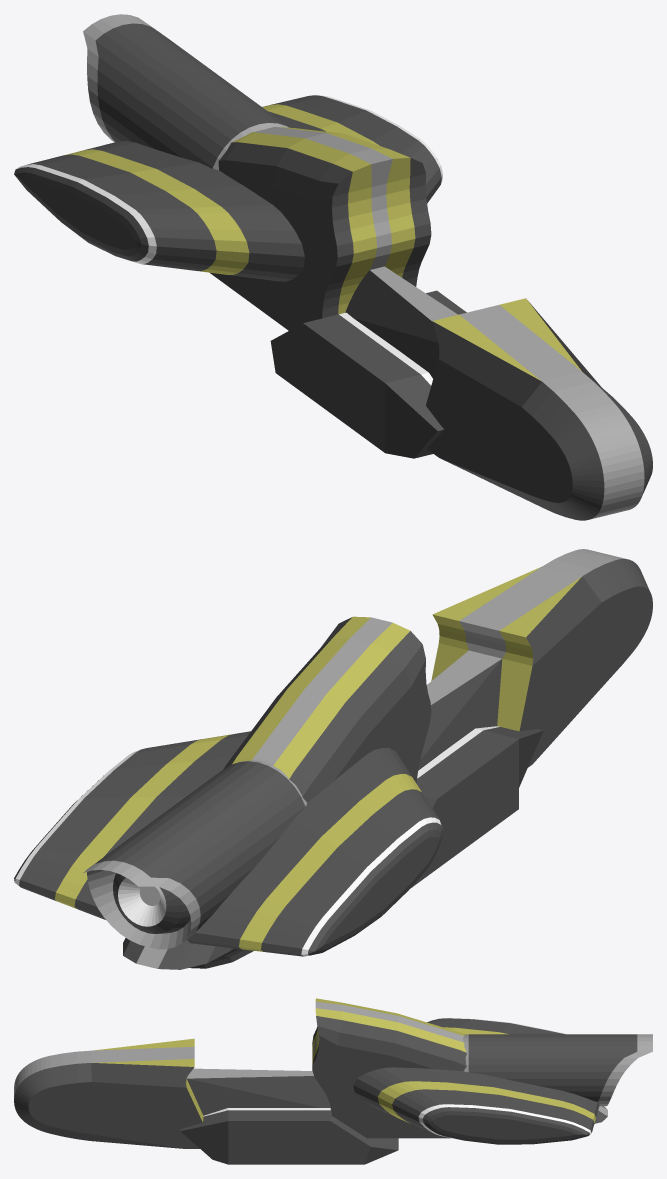
File: speeder2.glb
The picture shows the model from 3 angles, top to bottom: view 1: azimuth 30°, elevation 25°; view 2: azimuth 150°, elevation 25°; view 3: azimuth 270°, elevation 25°; orthographic projection. The views are drawn at different scales.
Parts seen in each view (by area): view 1: Cube; view 2: Cube; view 3: Cube.
Part boxes in pixels (x1,y1,x2,y2): Cube: [14, 14, 652, 520]; Cube: [14, 549, 652, 969]; Cube: [14, 998, 652, 1164].
Bounding box in the file's own units: 1.06 × 0.7465 × 3.1.
